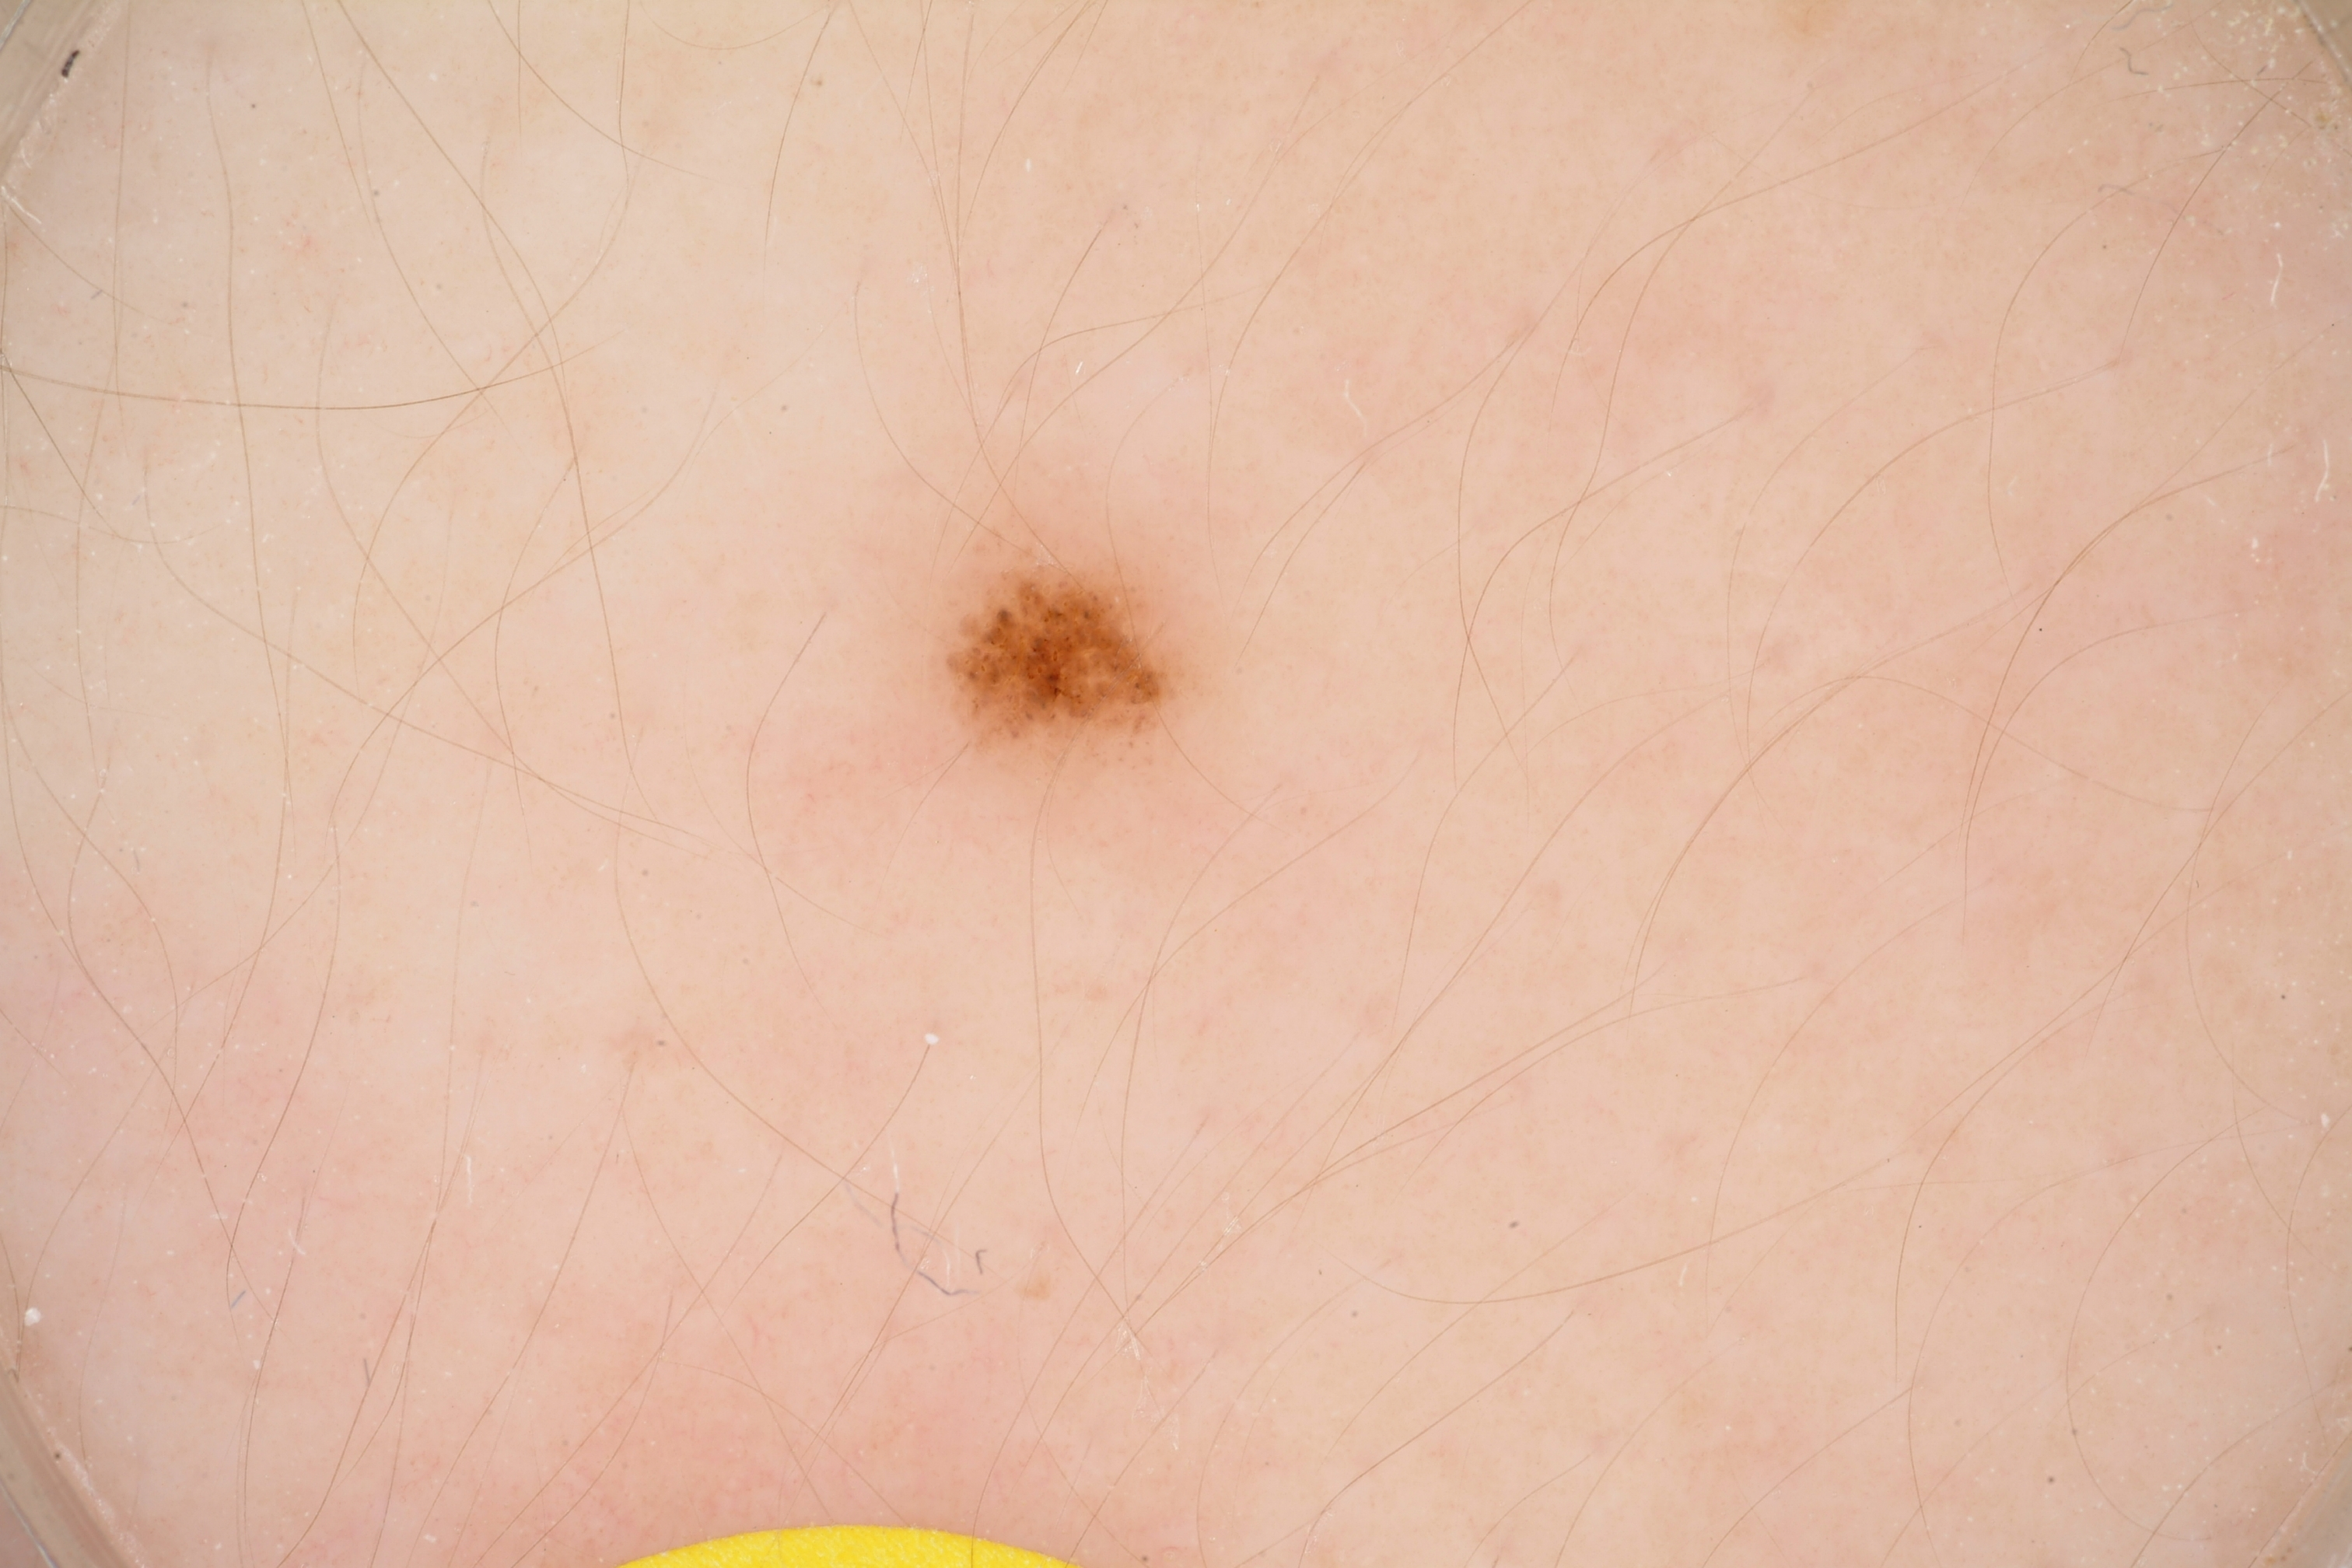Detected Lesion: (938, 562, 1193, 751)
